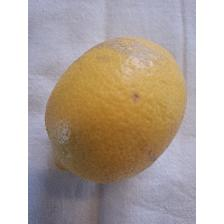Zitrone: (43, 32, 190, 186)
